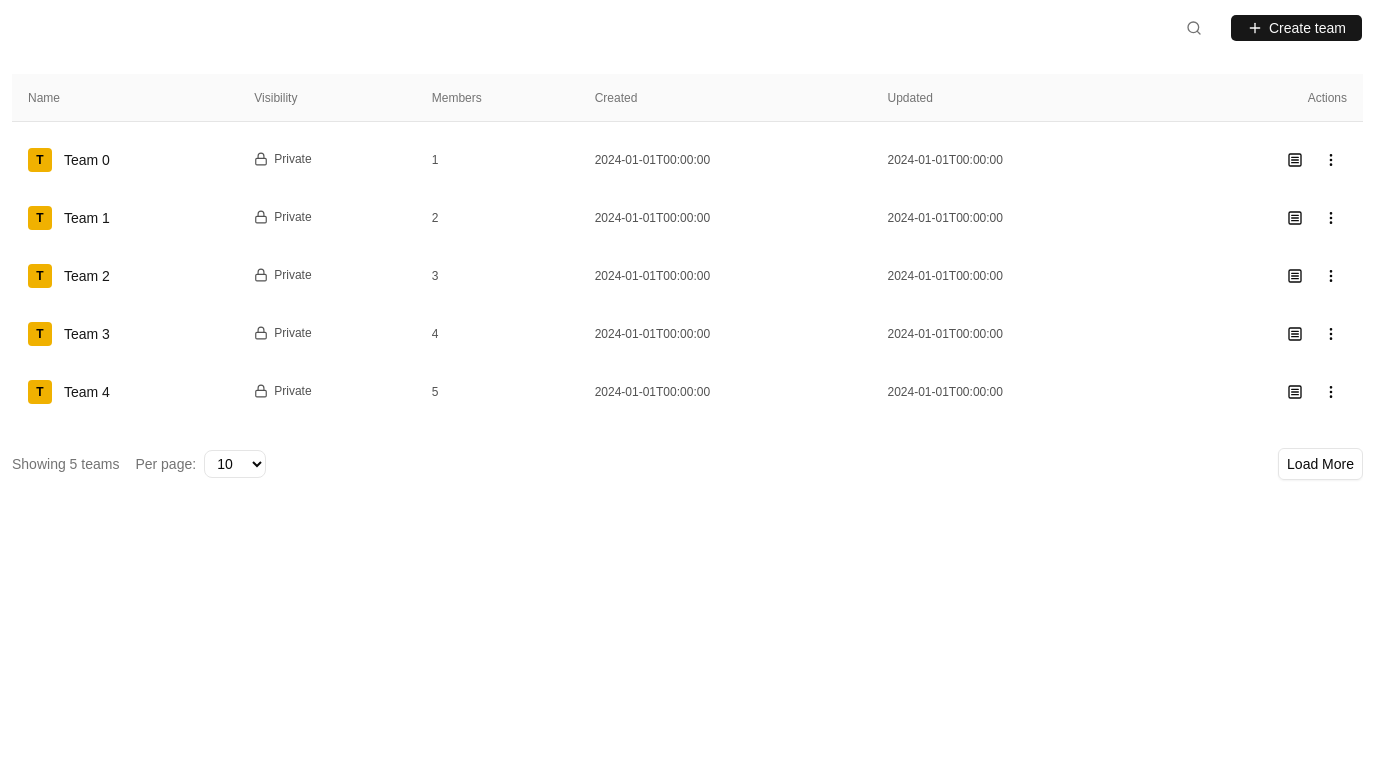
Scenario: Teams › accumulates teams when loading more
Expected: the text "Team 0" is shown, [64,150,110,170]
Expected: the text "Team 4" is shown, [64,382,110,402]
Click the button with aria-label "load more teams": (1321, 464) [1278,448,1363,480]
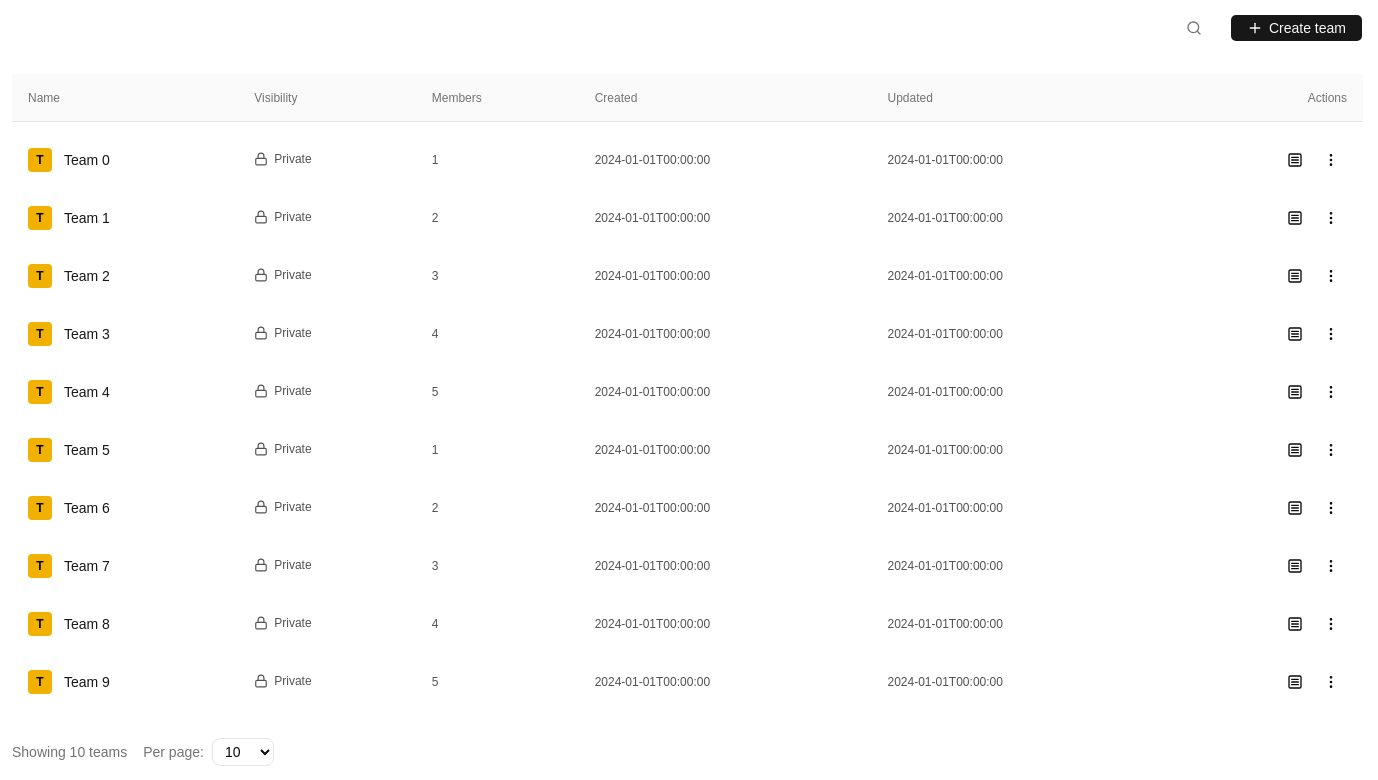
Expected: the text "Team 5" is shown, [64,440,110,460]
Expected: the text "Team 9" is shown, [64,672,110,692]
Expected: the text "Showing 10 teams" is shown, [12,742,127,762]
